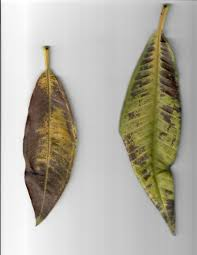Diseased_Leaves: (31, 89, 68, 157), (141, 46, 176, 110), (20, 165, 61, 203), (123, 133, 161, 174)
